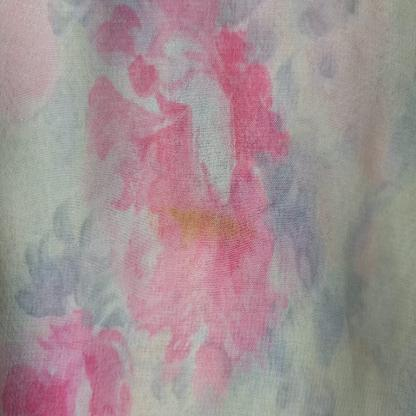spot: (165, 202, 270, 262)
